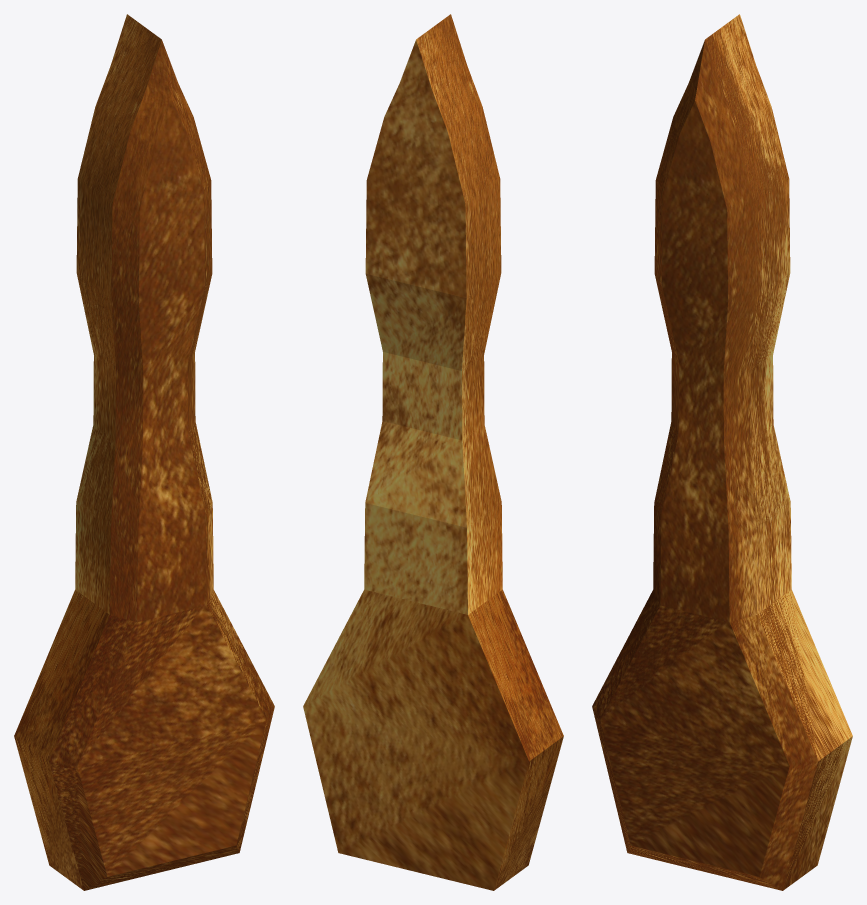
The model's file is Aiguille.fbx.
3 views of the same model, side by side, from view 1: azimuth 30°, elevation 25°; view 2: azimuth 150°, elevation 25°; view 3: azimuth 330°, elevation 25° (orthographic).
Parts seen in each view (by area): view 1: pCube37; view 2: pCube37; view 3: pCube37.
Boxes of the visible parts, x1,y1,x2,y2 form: pCube37: (14,14,274,890); pCube37: (303,14,563,890); pCube37: (592,14,852,890).
Size of the model in its own units: 0.0414 by 0.1456 by 0.0142.
